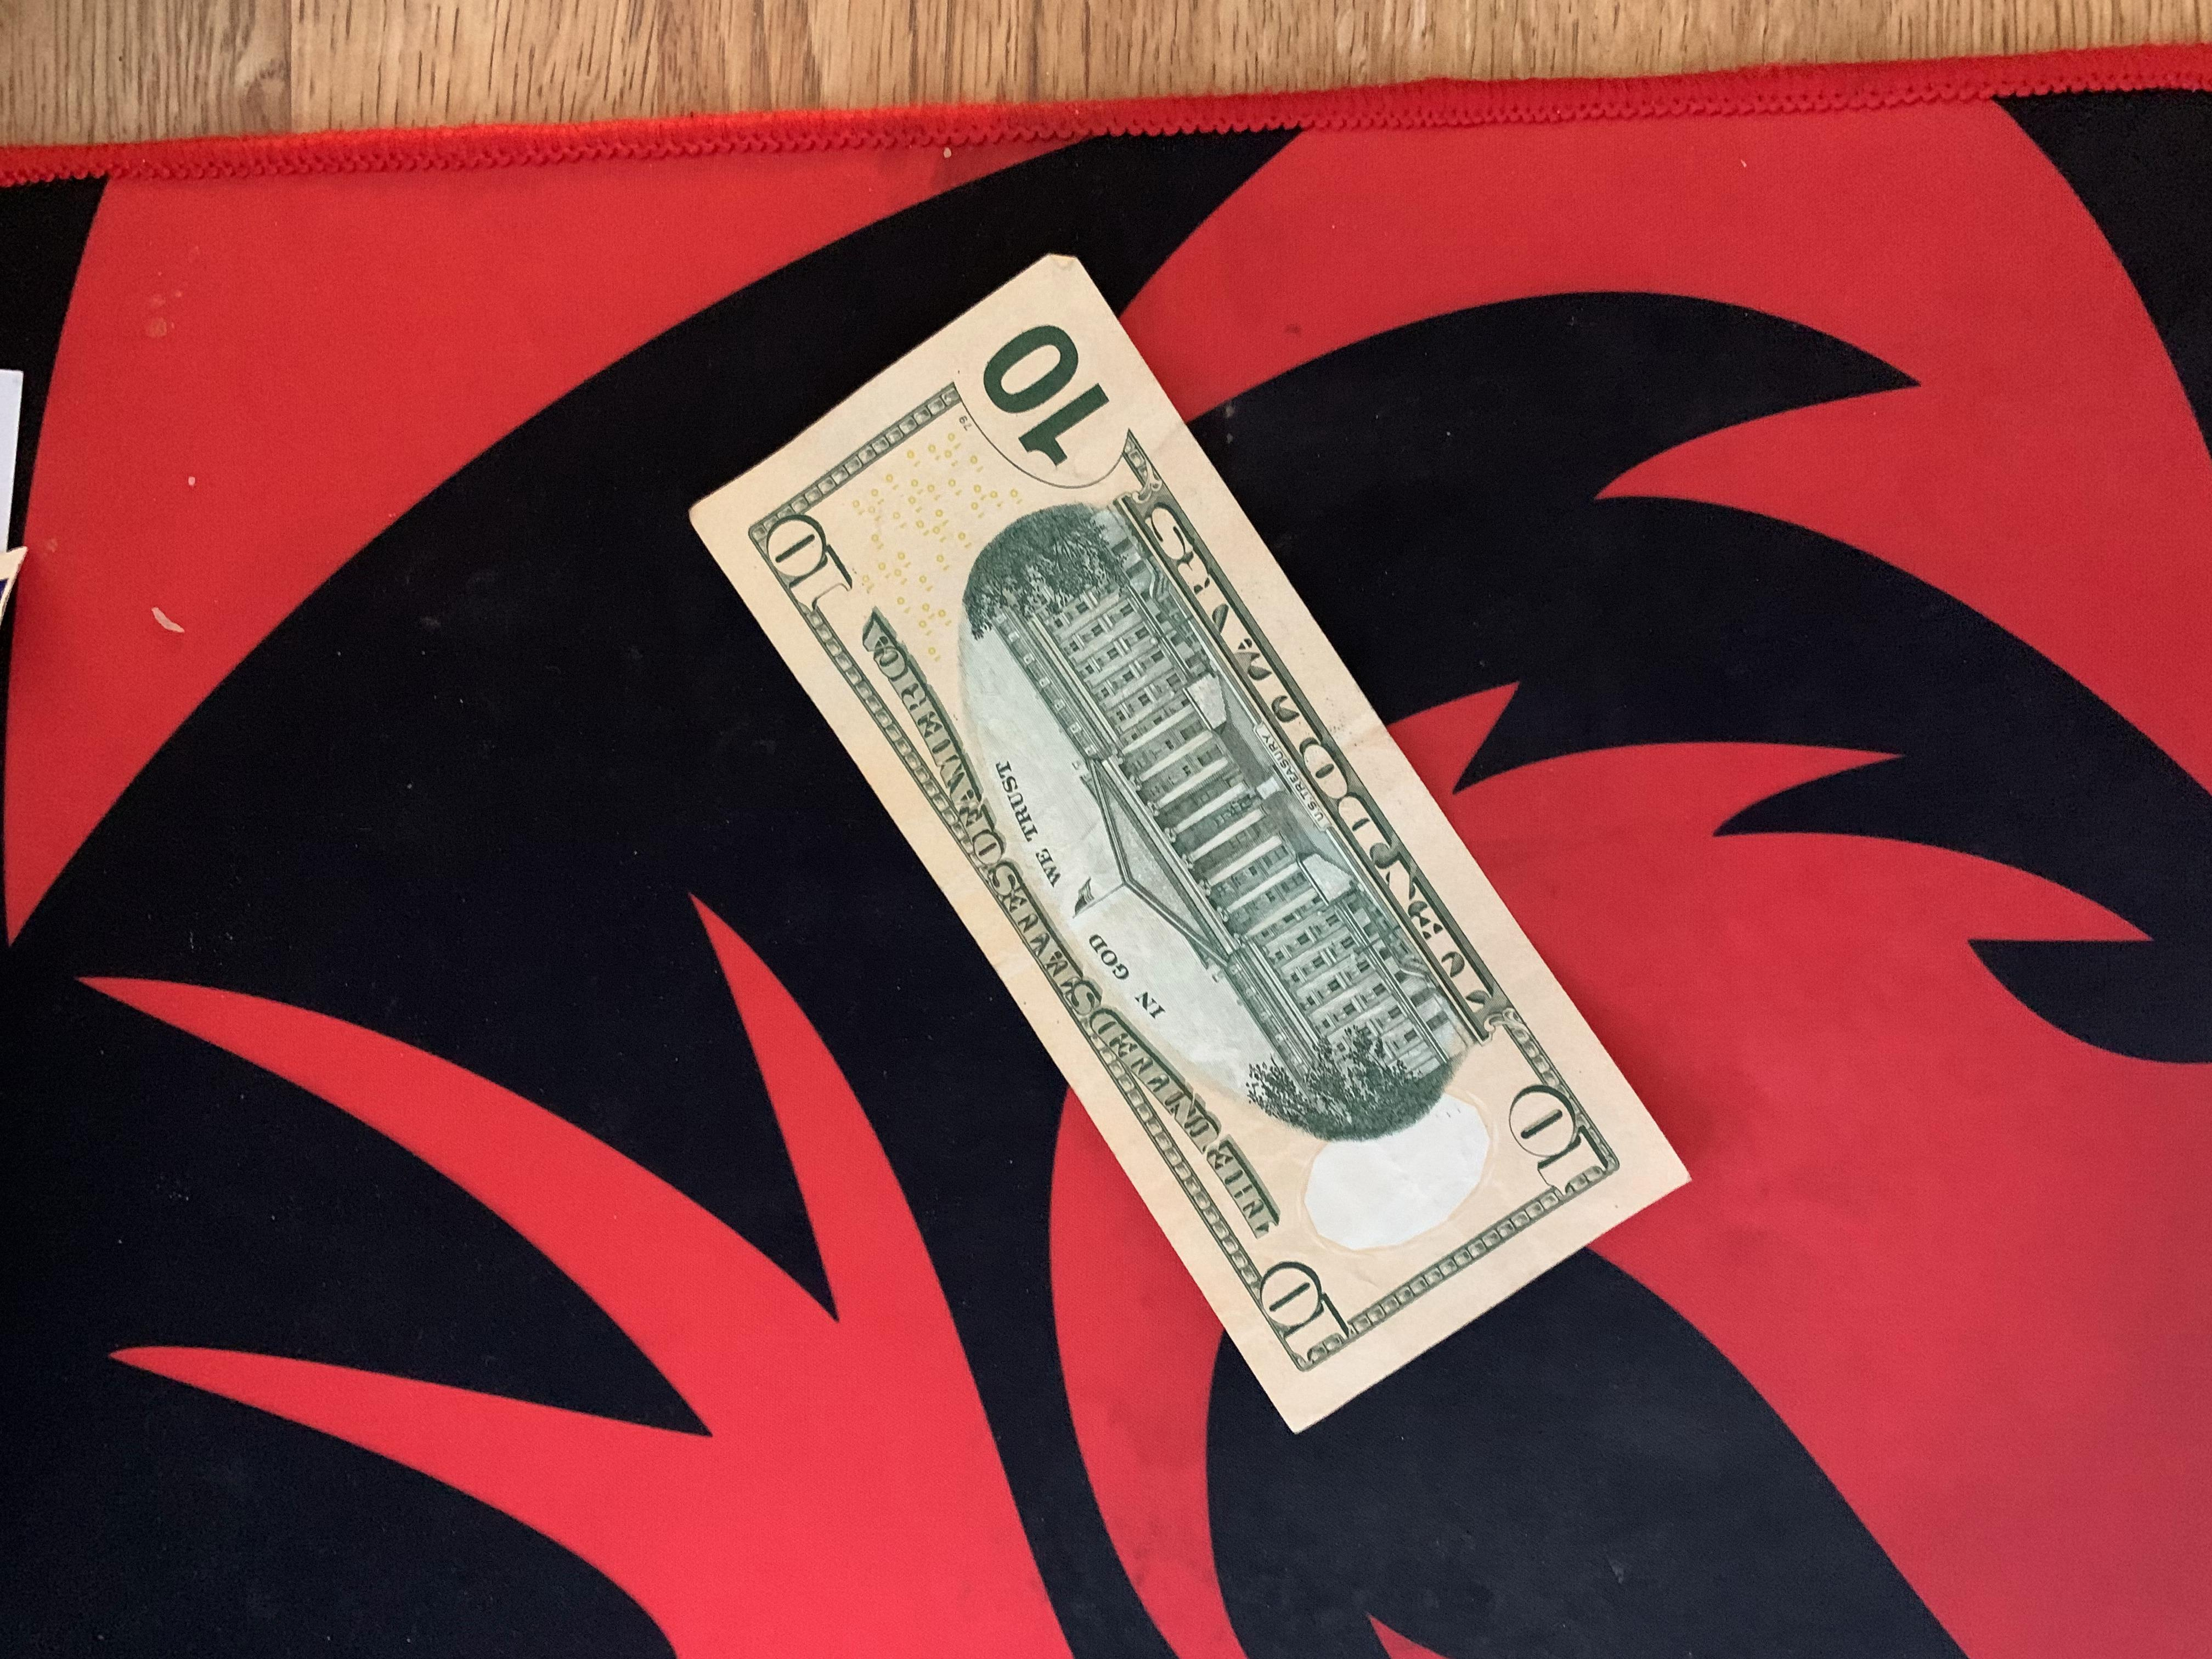TenBill: (690, 230, 1709, 1446)
